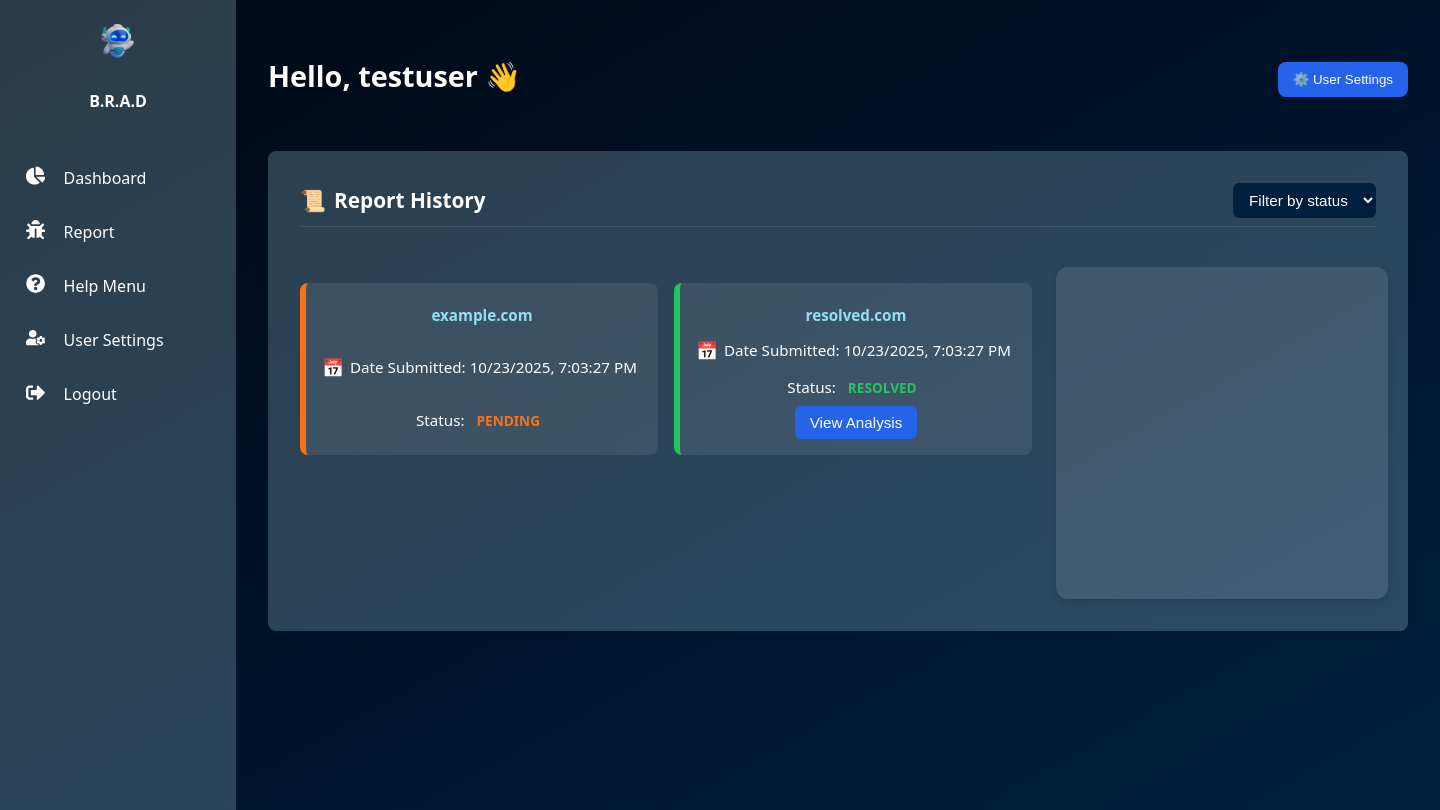
Test case: ReporterDashboard › filters report list by status
The image size is (1440, 810).
Select "Resolved" in the dropdown at (1304, 200), box x1=1233 y1=183 x2=1376 y2=218
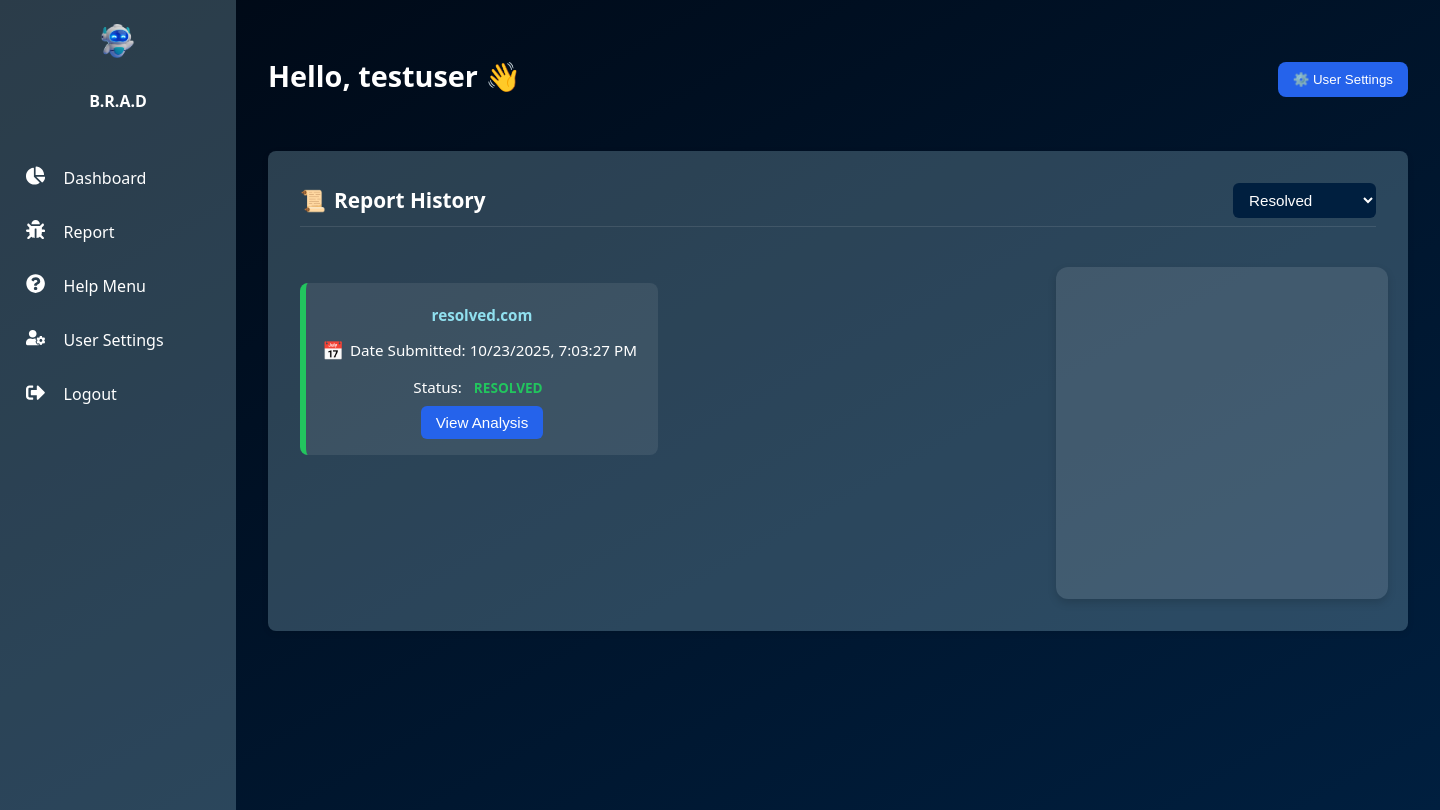
Expected: the text "resolved.com" is shown, x1=432 y1=305 x2=532 y2=325
Now the text "example.com" is gone
